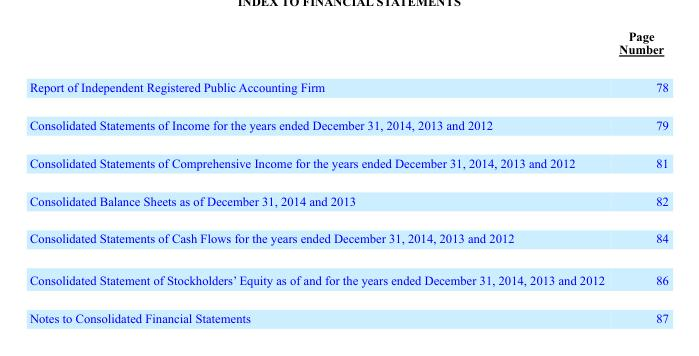table: (28, 29, 667, 324)
table column: (28, 29, 611, 324), (611, 29, 667, 324)
table column header: (28, 29, 667, 67)
table row: (28, 258, 667, 298), (28, 219, 667, 258), (28, 29, 667, 67), (28, 67, 667, 105), (28, 105, 667, 143), (28, 143, 667, 181), (28, 181, 667, 219), (28, 298, 667, 324)
